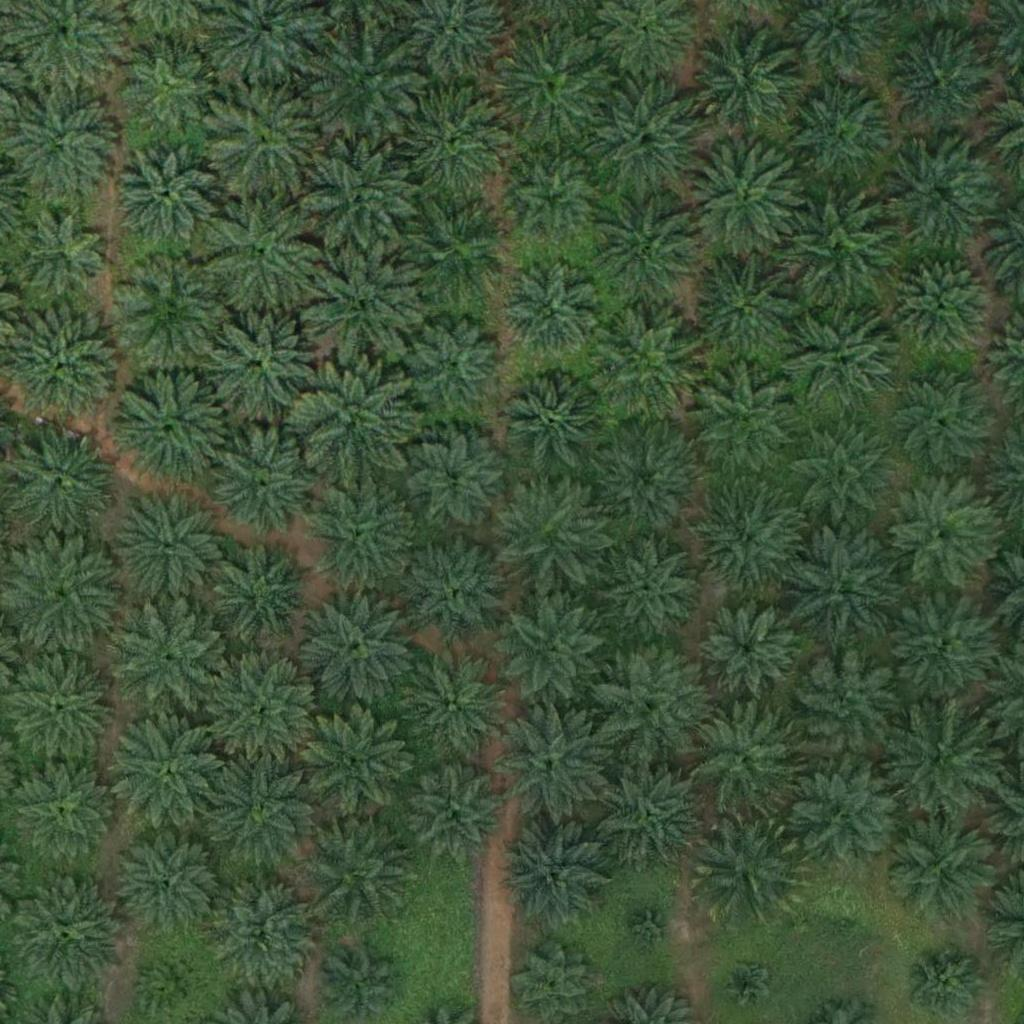Kelapa_Sawit: (307, 23, 420, 137), (592, 189, 705, 303), (690, 365, 803, 479), (885, 591, 998, 705), (882, 701, 995, 815), (783, 420, 896, 534), (785, 530, 898, 644), (693, 485, 806, 599), (207, 874, 320, 988), (113, 715, 226, 829), (6, 309, 119, 422), (116, 368, 229, 481), (207, 84, 320, 197), (302, 143, 415, 256), (304, 249, 417, 362), (298, 364, 411, 477), (496, 22, 609, 135), (593, 82, 706, 195), (687, 143, 800, 256), (689, 252, 802, 365), (887, 811, 1000, 924), (789, 651, 902, 764), (497, 595, 610, 708), (497, 708, 610, 821), (500, 823, 613, 936), (395, 644, 508, 757), (211, 655, 324, 768), (205, 750, 318, 863), (112, 490, 225, 603), (116, 606, 229, 719), (3, 425, 116, 538), (8, 539, 121, 652), (403, 82, 515, 196), (593, 314, 705, 428), (9, 653, 121, 767), (691, 812, 803, 925), (3, 91, 115, 204), (115, 254, 227, 367), (209, 196, 321, 309), (207, 302, 319, 415), (400, 197, 512, 310), (589, 423, 701, 536), (690, 23, 802, 136), (780, 76, 892, 189), (779, 192, 891, 305), (787, 306, 899, 419), (882, 139, 994, 252), (886, 363, 998, 476), (884, 478, 996, 591), (794, 758, 906, 871), (689, 702, 801, 815), (589, 648, 701, 761), (593, 755, 705, 868), (492, 477, 604, 590), (304, 481, 416, 594), (301, 592, 413, 705), (306, 704, 418, 817), (305, 811, 417, 924), (211, 426, 323, 539), (11, 879, 123, 992), (14, 209, 114, 310), (118, 31, 218, 132), (114, 142, 214, 243), (404, 314, 504, 415), (406, 433, 506, 534), (506, 375, 606, 476), (888, 31, 988, 132), (891, 254, 991, 355), (698, 599, 798, 700), (600, 540, 700, 641), (406, 537, 506, 638), (407, 764, 507, 865), (216, 543, 316, 644), (501, 262, 601, 362), (121, 832, 221, 932), (14, 763, 114, 863), (507, 159, 595, 247), (142, 957, 204, 1020), (627, 902, 677, 953), (721, 958, 771, 1009), (818, 895, 868, 945)
